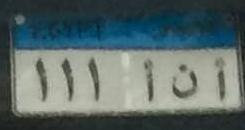1: (31, 55, 52, 104), (86, 56, 107, 103), (60, 56, 80, 104)
alif: (209, 55, 229, 103), (141, 59, 156, 100)
noon: (169, 61, 199, 102)
